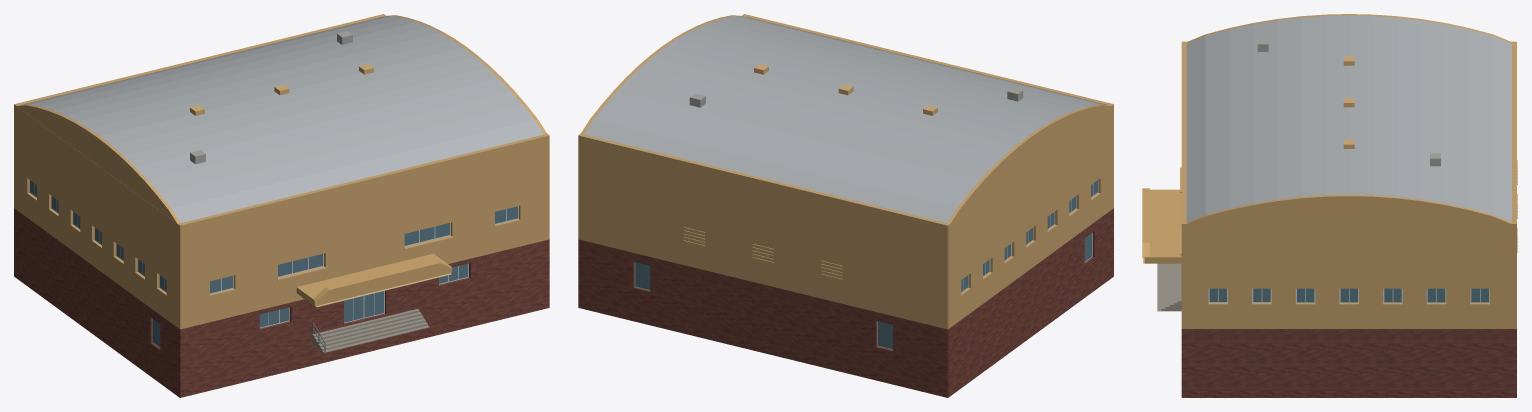
The picture shows the model from 3 angles, left to right: view 1: azimuth 30°, elevation 25°; view 2: azimuth 150°, elevation 25°; view 3: azimuth 270°, elevation 25°; orthographic projection.
Parts seen in each view (by area): view 1: w451562725__ochre-wall, w451562725__steel-roof, w451562725__brick-wall, w451562725__canopy-ochre, w451562725__glass, w451562725__stone-step, w451562725__door-glass, w451562725__frame, w451562725__trim; view 2: w451562725__ochre-wall, w451562725__steel-roof, w451562725__brick-wall, w451562725__trim, w451562725__door-glass, w451562725__glass; view 3: w451562725__steel-roof, w451562725__ochre-wall, w451562725__brick-wall, w451562725__canopy-ochre, w451562725__glass, w451562725__stone-step, w451562725__frame, w451562725__trim.
Part boxes in pixels (x1,y1,x2,y2): w451562725__ochre-wall: (14,14,549,329); w451562725__steel-roof: (21,16,543,222); w451562725__brick-wall: (14,208,549,397); w451562725__canopy-ochre: (296,253,452,306); w451562725__glass: (30,180,517,327); w451562725__stone-step: (312,309,429,352); w451562725__door-glass: (153,291,384,346); w451562725__frame: (29,180,518,347); w451562725__trim: (190,64,453,280); w451562725__ochre-wall: (578,14,1113,329); w451562725__steel-roof: (584,16,1106,222); w451562725__brick-wall: (578,208,1113,397); w451562725__trim: (683,64,937,280); w451562725__door-glass: (635,233,1091,349); w451562725__glass: (961,180,1097,291); w451562725__steel-roof: (1186,15,1511,222); w451562725__ochre-wall: (1181,14,1516,328); w451562725__brick-wall: (1181,329,1516,397); w451562725__canopy-ochre: (1142,188,1181,263); w451562725__glass: (1209,288,1488,302); w451562725__stone-step: (1157,263,1181,311); w451562725__frame: (1208,288,1489,302); w451562725__trim: (1180,56,1517,255).
Bounding box in the file's own units: 35.05 × 18.5 × 30.5.
Materials: 13 (1 with a texture image).
